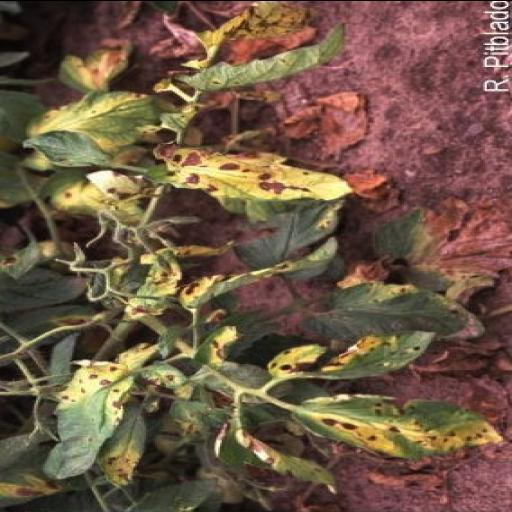Early Blight: (40, 330, 172, 476), (286, 391, 504, 460), (176, 236, 340, 310), (301, 279, 483, 339), (155, 149, 353, 200), (211, 417, 336, 492), (26, 92, 172, 151), (269, 326, 427, 380)
